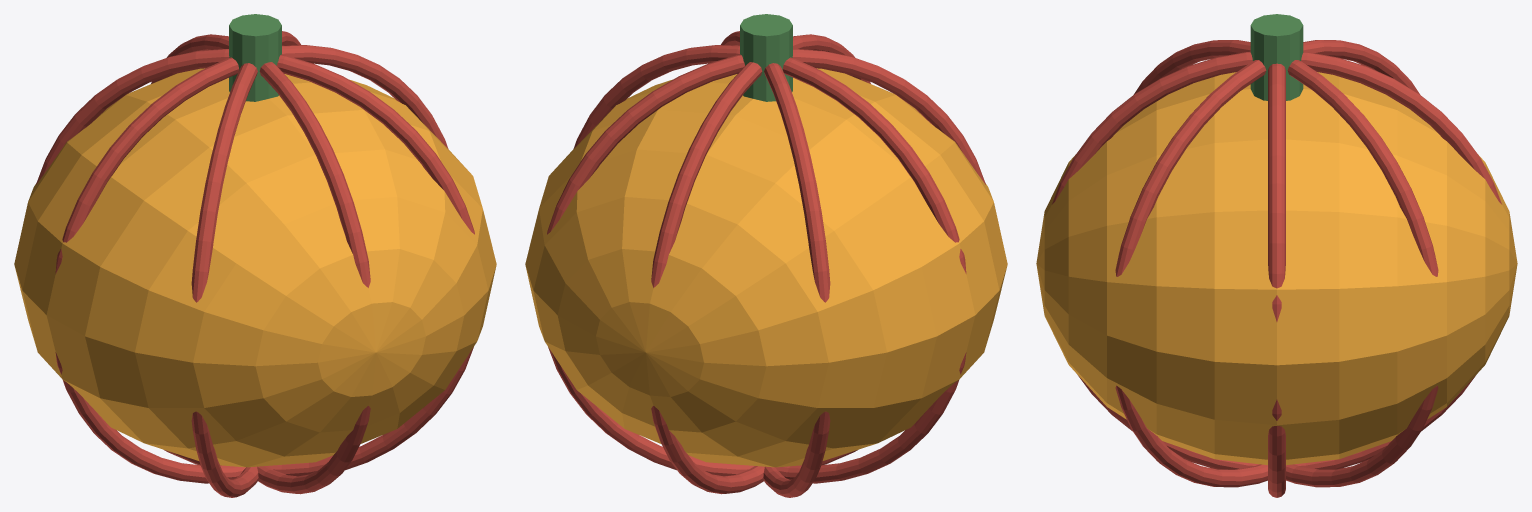
The model's file is pumpkin.glb.
3 renders of one model, left to right at view 1: azimuth 30°, elevation 25°; view 2: azimuth 150°, elevation 25°; view 3: azimuth 270°, elevation 25°, orthographic.
Visible parts, largest first — view 1: Pumpkin, Groove.003, Groove, Groove.002, Groove.001, Stem; view 2: Pumpkin, Groove.001, Groove, Groove.002, Groove.003, Stem; view 3: Pumpkin, Groove.002, Groove.001, Groove.003, Groove, Stem.
Part boxes in pixels (left/top/right/bottom): Pumpkin: left=14, top=68, right=496, bottom=467; Groove.003: left=36, top=49, right=474, bottom=476; Groove: left=55, top=45, right=448, bottom=483; Groove.002: left=151, top=34, right=370, bottom=494; Groove.001: left=191, top=31, right=300, bottom=497; Stem: left=229, top=14, right=281, bottom=101; Pumpkin: left=525, top=68, right=1007, bottom=467; Groove.001: left=547, top=49, right=985, bottom=476; Groove: left=573, top=45, right=966, bottom=483; Groove.002: left=651, top=34, right=870, bottom=494; Groove.003: left=721, top=31, right=830, bottom=497; Stem: left=740, top=14, right=792, bottom=101; Pumpkin: left=1036, top=72, right=1517, bottom=465; Groove.002: left=1052, top=51, right=1501, bottom=469; Groove.001: left=1134, top=40, right=1438, bottom=487; Groove.003: left=1115, top=40, right=1419, bottom=487; Groove: left=1268, top=63, right=1285, bottom=497; Stem: left=1250, top=14, right=1303, bottom=100.
Size of the model in its own units: 0.64 by 0.662 by 0.64.
